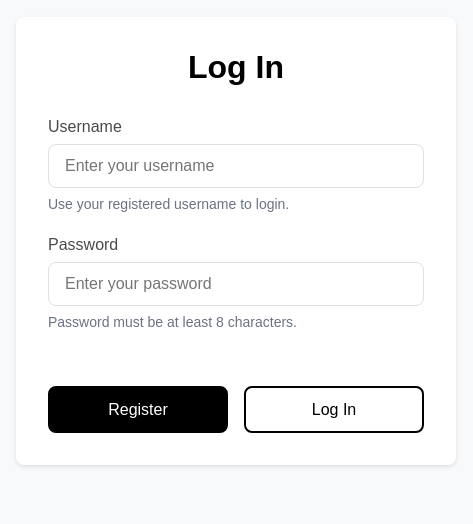
Login Component › shows error when submitting empty form
Click the button "Log In".
click(334, 410)  # box [244, 386, 424, 433]
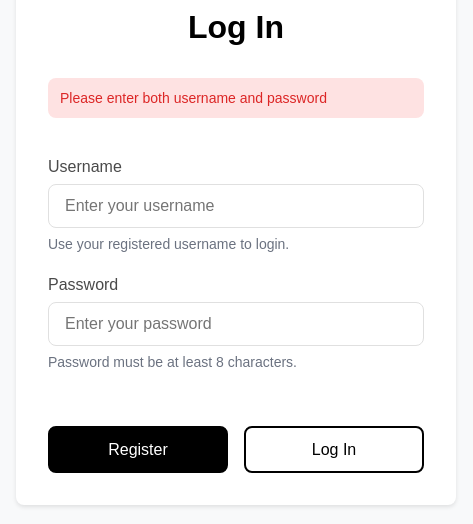
Now the text "Please enter both username and password" is shown, box [48, 78, 424, 118]
